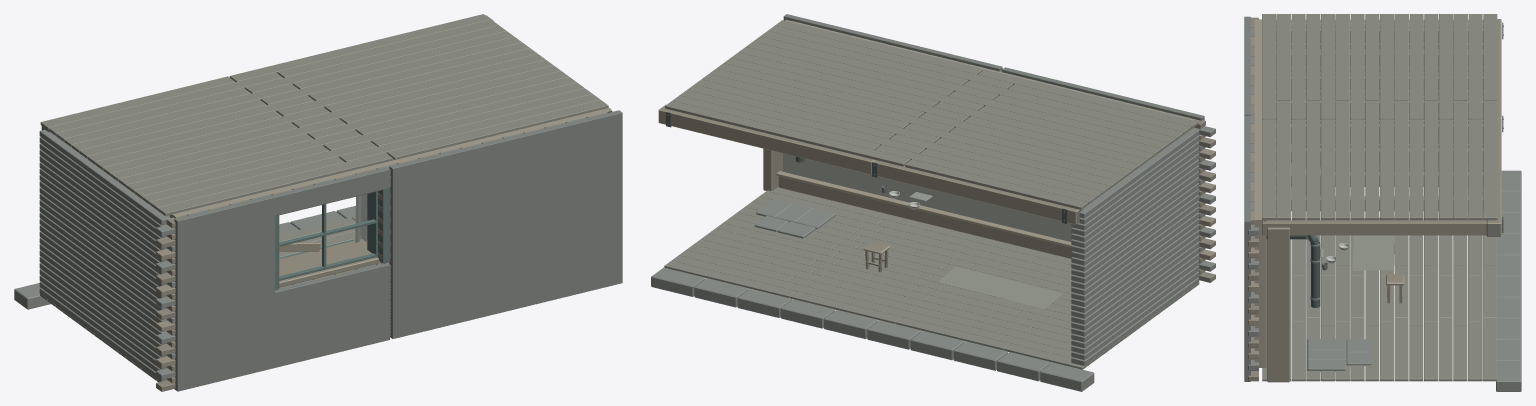
The model's file is WestRoom_Assembly.gltf.
The picture shows the model from 3 angles, left to right: view 1: azimuth 30°, elevation 25°; view 2: azimuth 150°, elevation 25°; view 3: azimuth 270°, elevation 25°; orthographic projection. The views are drawn at different scales.
Parts seen in each view (by area): view 1: WestRoom_Assembly; view 2: WestRoom_Assembly; view 3: WestRoom_Assembly.
Part boxes in pixels (x1=…): WestRoom_Assembly: x1=14, y1=14, x2=622, y2=391; WestRoom_Assembly: x1=651, y1=14, x2=1215, y2=391; WestRoom_Assembly: x1=1244, y1=14, x2=1521, y2=391.
Bounding box in the file's own units: 9.27 × 3.52 × 5.1.
